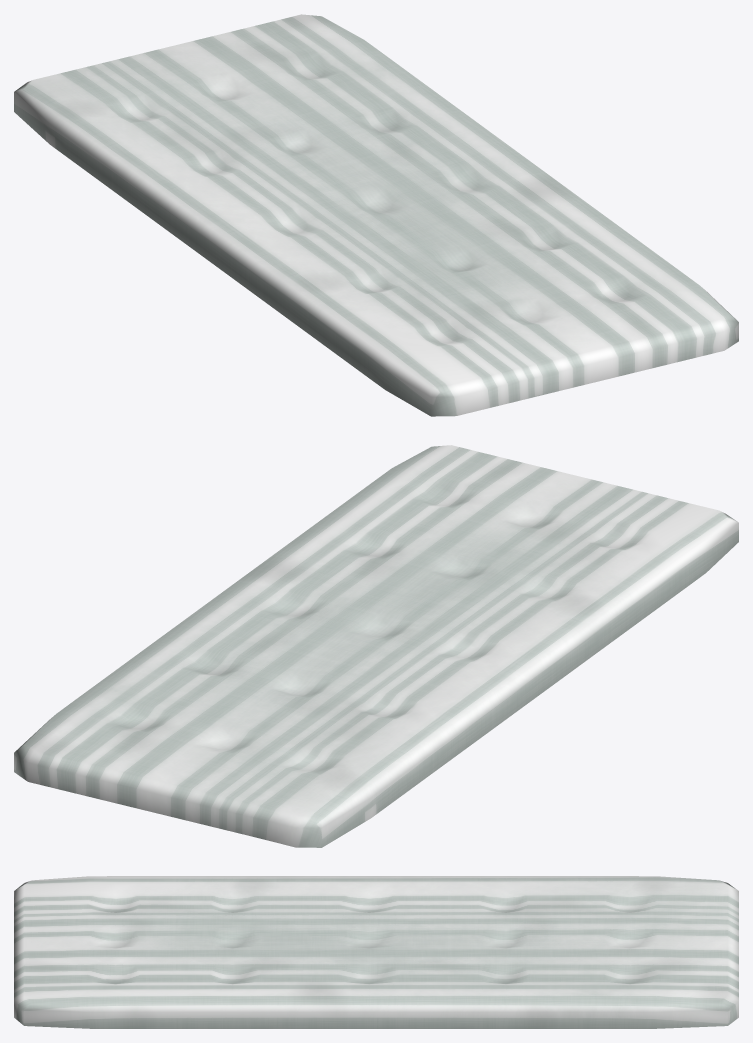
Rendered from Colchon_dorm_text.fbx.
3 renders of one model, top to bottom at view 1: azimuth 30°, elevation 25°; view 2: azimuth 150°, elevation 25°; view 3: azimuth 270°, elevation 25°, orthographic. The views are drawn at different scales.
Visible parts, largest first — view 1: obj_colchon; view 2: obj_colchon; view 3: obj_colchon.
Part boxes in pixels (<box>): obj_colchon: <box>14,14,738,416</box>; obj_colchon: <box>14,445,738,847</box>; obj_colchon: <box>14,876,738,1028</box>.
Size of the model in its own units: 108 by 9.61 by 250.
1 material, 1 textured.
